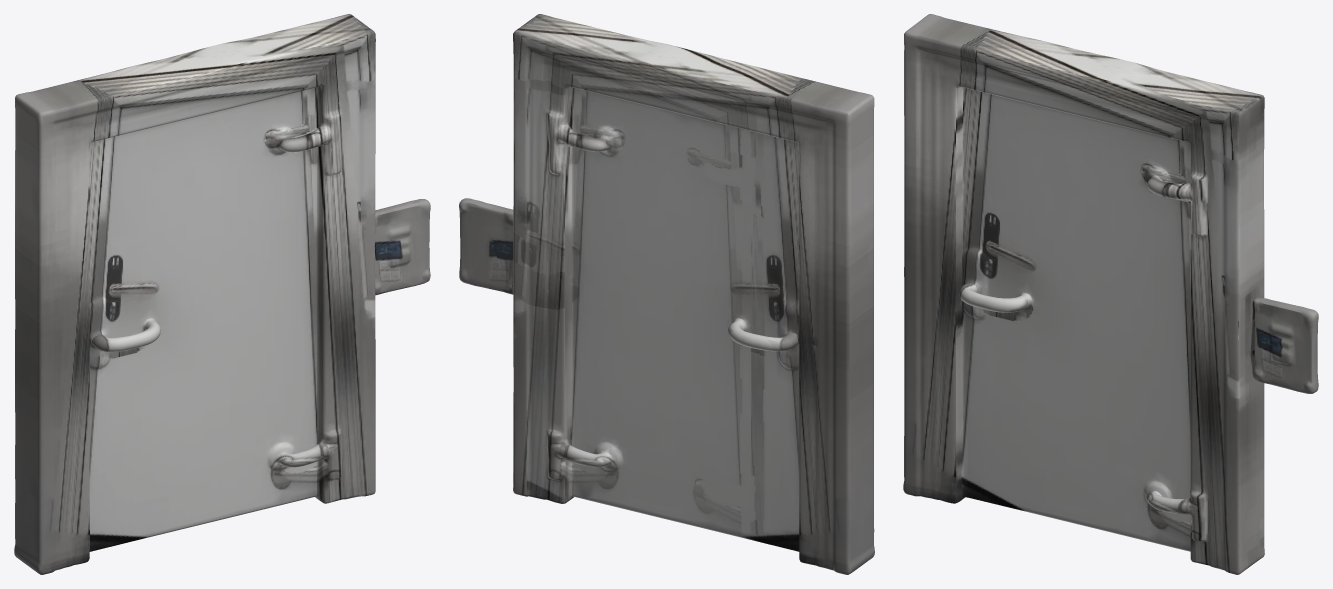
File: chiller-door.glb
3 renders of one model, left to right at view 1: azimuth 30°, elevation 25°; view 2: azimuth 150°, elevation 25°; view 3: azimuth 330°, elevation 25°, orthographic.
Visible parts, largest first — view 1: cowninja-chiller-door; view 2: cowninja-chiller-door; view 3: cowninja-chiller-door.
Boxes of the visible parts, x1,y1,x2,y2 form: cowninja-chiller-door: (14, 14, 430, 574); cowninja-chiller-door: (459, 14, 874, 574); cowninja-chiller-door: (903, 14, 1318, 574).
Size of the model in its own units: 2.27 by 2.5 by 0.4274.
Materials: 1 (1 with a texture image).
